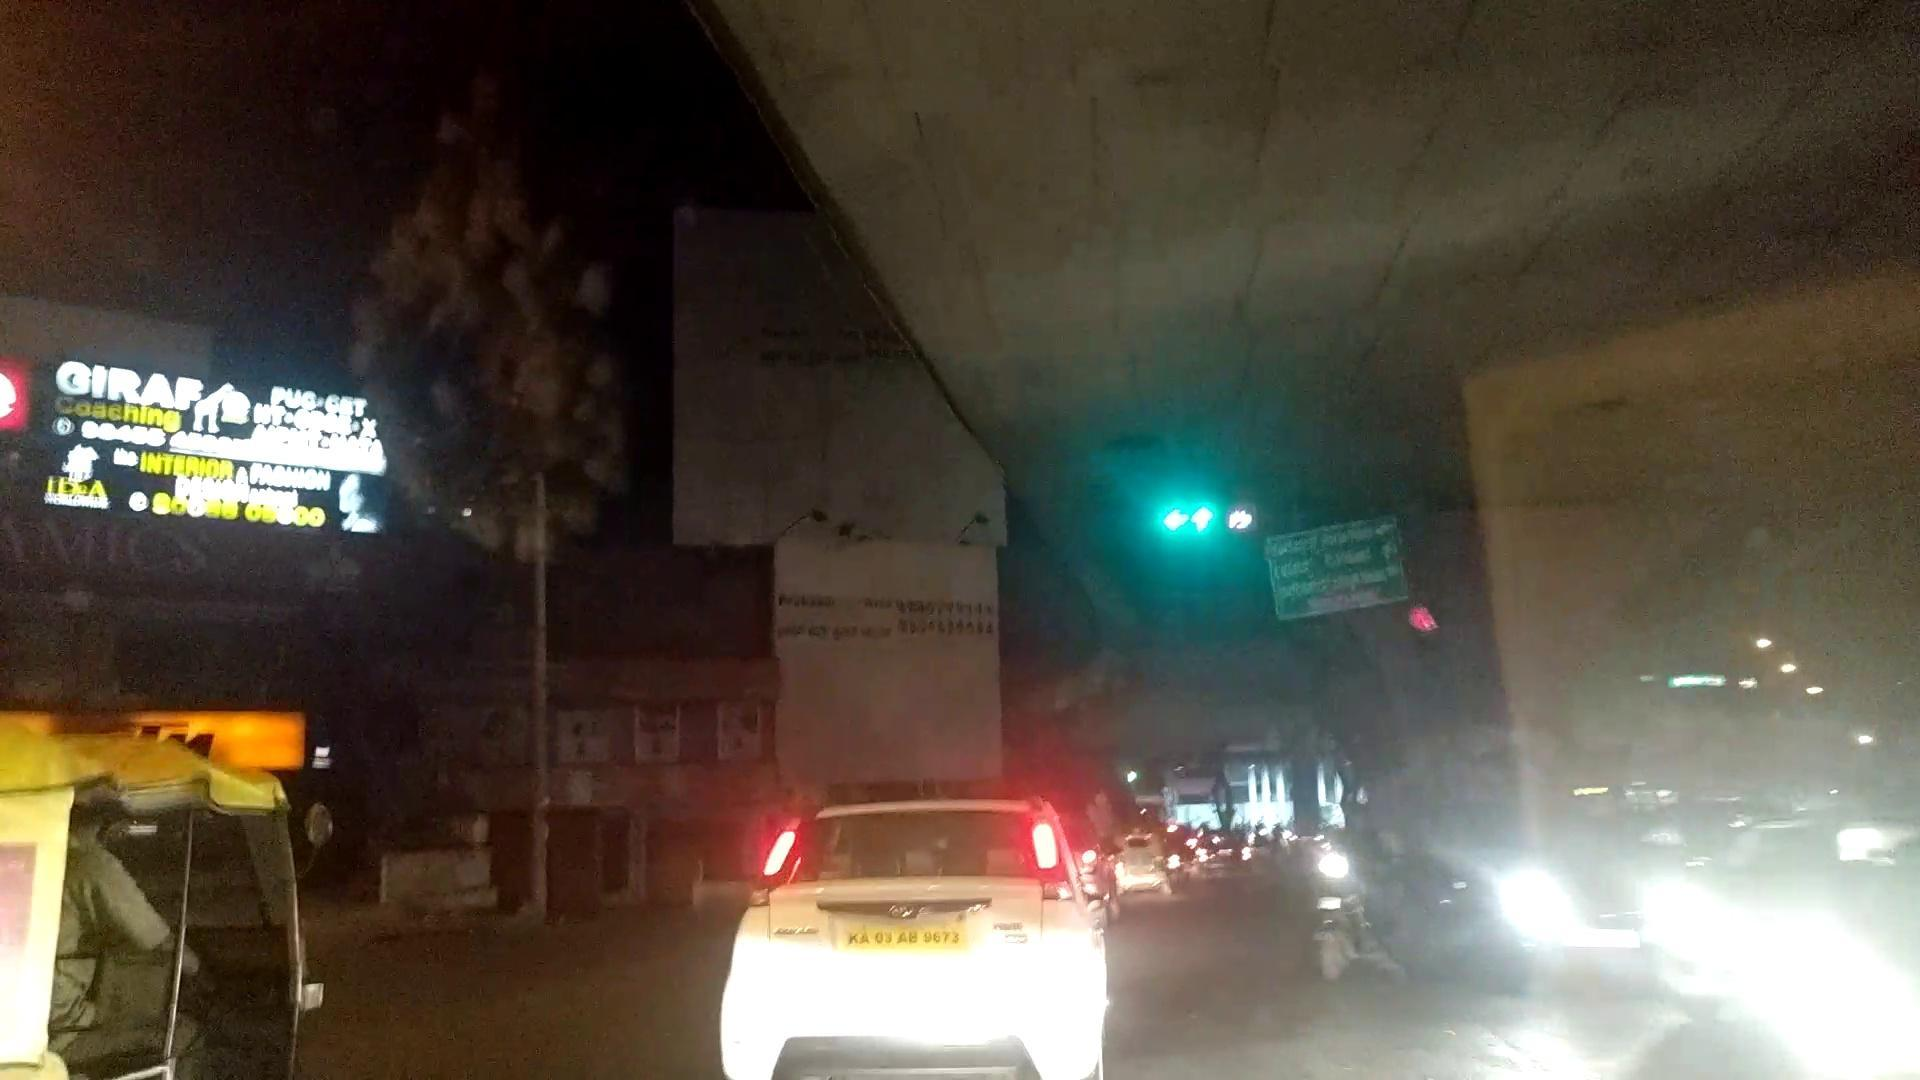on: (0, 32, 400, 555)
